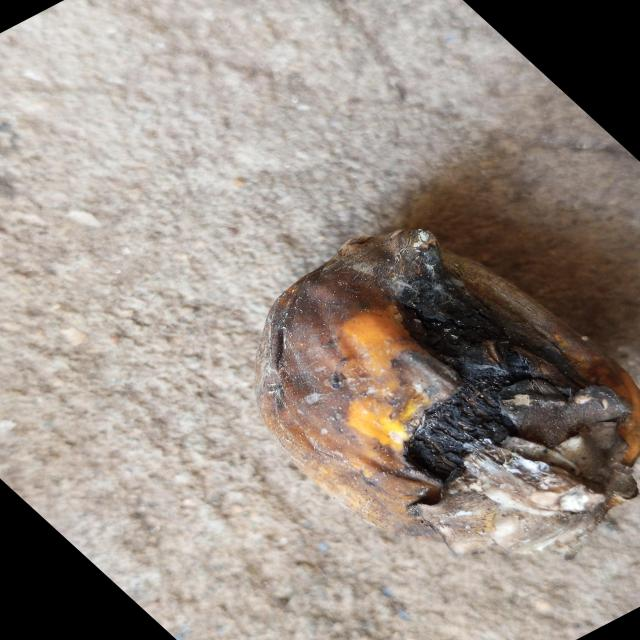damaged: (259, 228, 640, 551)
